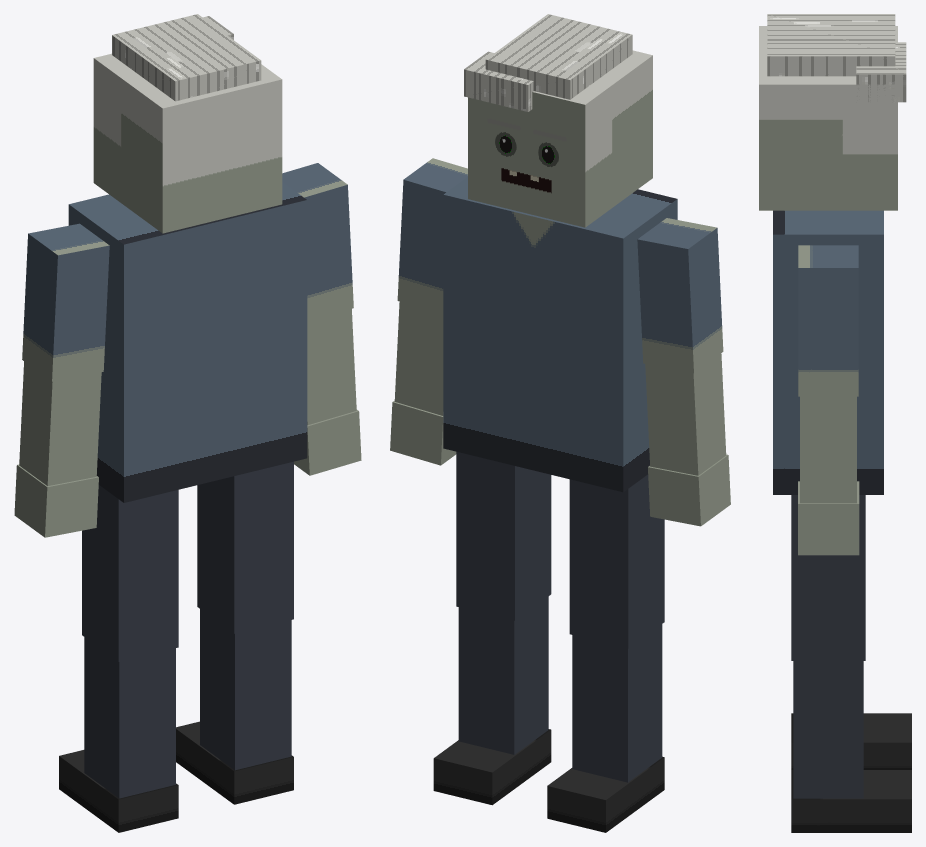
File: hair_undercut.glb
The picture shows the model from 3 angles, left to right: view 1: azimuth 30°, elevation 25°; view 2: azimuth 150°, elevation 25°; view 3: azimuth 270°, elevation 25°; orthographic projection. The views are drawn at different scales.
Visible parts, largest first — view 1: block_torso, block_head, block_thigh.L, block_thigh.R, block_shin.R, block_shin.L, block_upper_arm.L, block_hair-top, block_forearm.L, block_upper_arm.R, block_forearm.R, block_foot.L (+3 smaller); view 2: block_torso, block_head, block_thigh.L, block_thigh.R, block_shin.L, block_shin.R, block_upper_arm.L, block_forearm.L, block_hair-top, block_upper_arm.R, block_foot.R, block_foot.L (+4 smaller); view 3: block_head, block_torso, block_shin.R, block_upper_arm.R, block_thigh.R, block_hair-top, block_forearm.R, block_foot.R, block_hand.R, block_foot.L, block_hair-flop.
Part boxes in pixels (x1,y1,x2,y2): block_torso: [68, 182, 307, 502]; block_head: [93, 53, 282, 233]; block_thigh.L: [82, 485, 178, 661]; block_thigh.R: [197, 461, 293, 633]; block_shin.R: [200, 609, 291, 770]; block_shin.L: [84, 637, 175, 798]; block_upper_arm.L: [22, 223, 109, 381]; block_hair-top: [112, 14, 261, 101]; block_forearm.L: [19, 361, 101, 486]; block_upper_arm.R: [282, 163, 353, 321]; block_forearm.R: [307, 308, 356, 425]; block_foot.L: [59, 750, 178, 832]; block_torso: [443, 177, 677, 492]; block_head: [468, 50, 652, 227]; block_thigh.L: [569, 474, 664, 648]; block_thigh.R: [456, 451, 551, 620]; block_shin.L: [572, 624, 662, 782]; block_shin.R: [458, 596, 548, 754]; block_upper_arm.L: [637, 218, 723, 372]; block_forearm.L: [645, 353, 726, 475]; block_hair-top: [485, 14, 632, 99]; block_upper_arm.R: [397, 158, 467, 314]; block_foot.R: [433, 729, 551, 805]; block_foot.L: [547, 756, 664, 832]; block_head: [759, 26, 897, 210]; block_torso: [773, 210, 883, 494]; block_shin.R: [793, 661, 863, 798]; block_upper_arm.R: [798, 245, 858, 396]; block_thigh.R: [791, 495, 865, 660]; block_hair-top: [767, 14, 895, 76]; block_forearm.R: [800, 396, 856, 503]; block_foot.R: [791, 770, 911, 832]; block_hand.R: [798, 481, 859, 555]; block_foot.L: [791, 713, 911, 769]; block_hair-flop: [856, 42, 906, 102].
Size of the model in its own units: 0.7948 by 1.8 by 0.33.
Materials: 1 (1 with a texture image).
